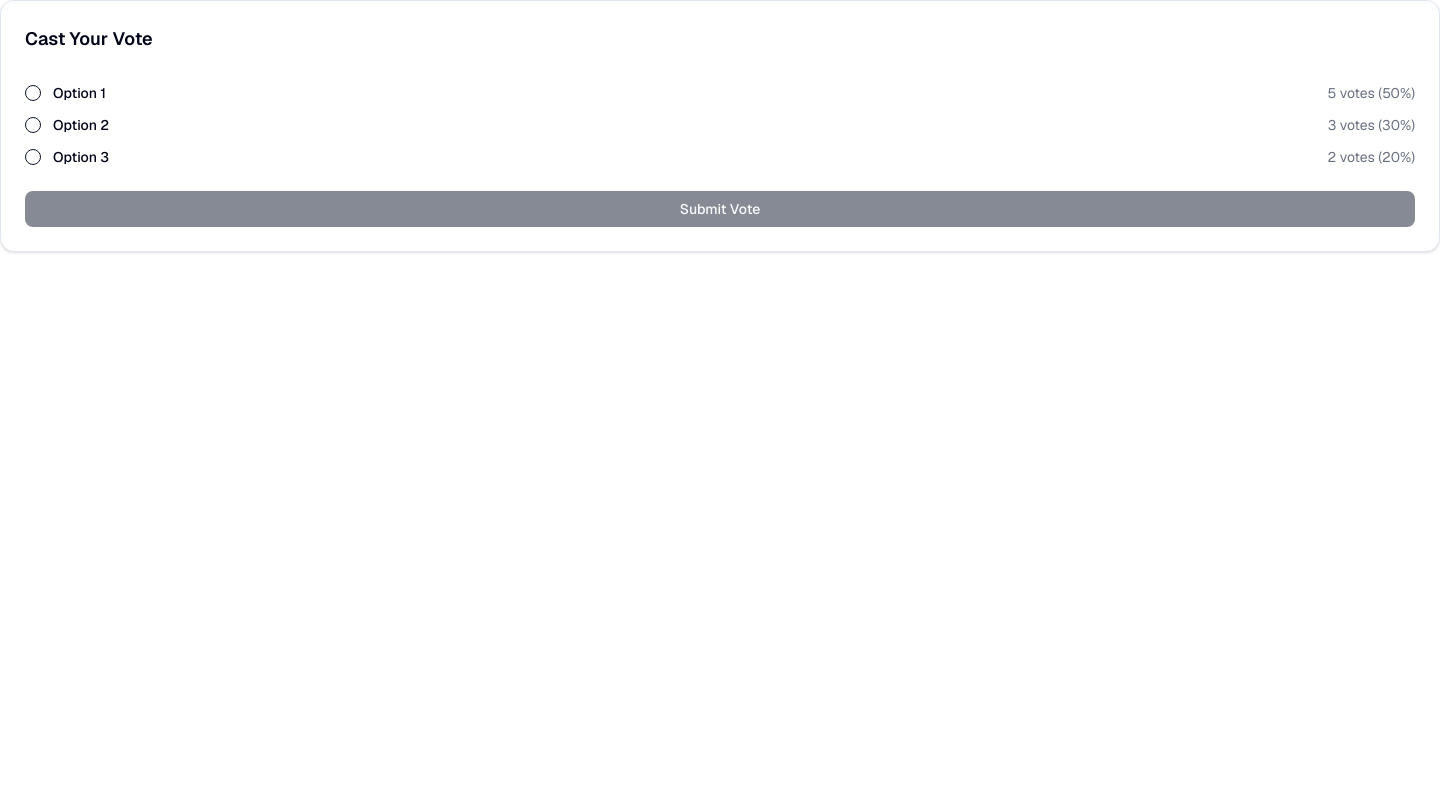
Test: VotingForm › shows total votes count in results
# Vote to see results
What coordinates should you click on to do the following:
click the radio button named "Option 1" next to "Option 1"
I would click on:
 (33, 93)
Its box is [25,85,41,101].
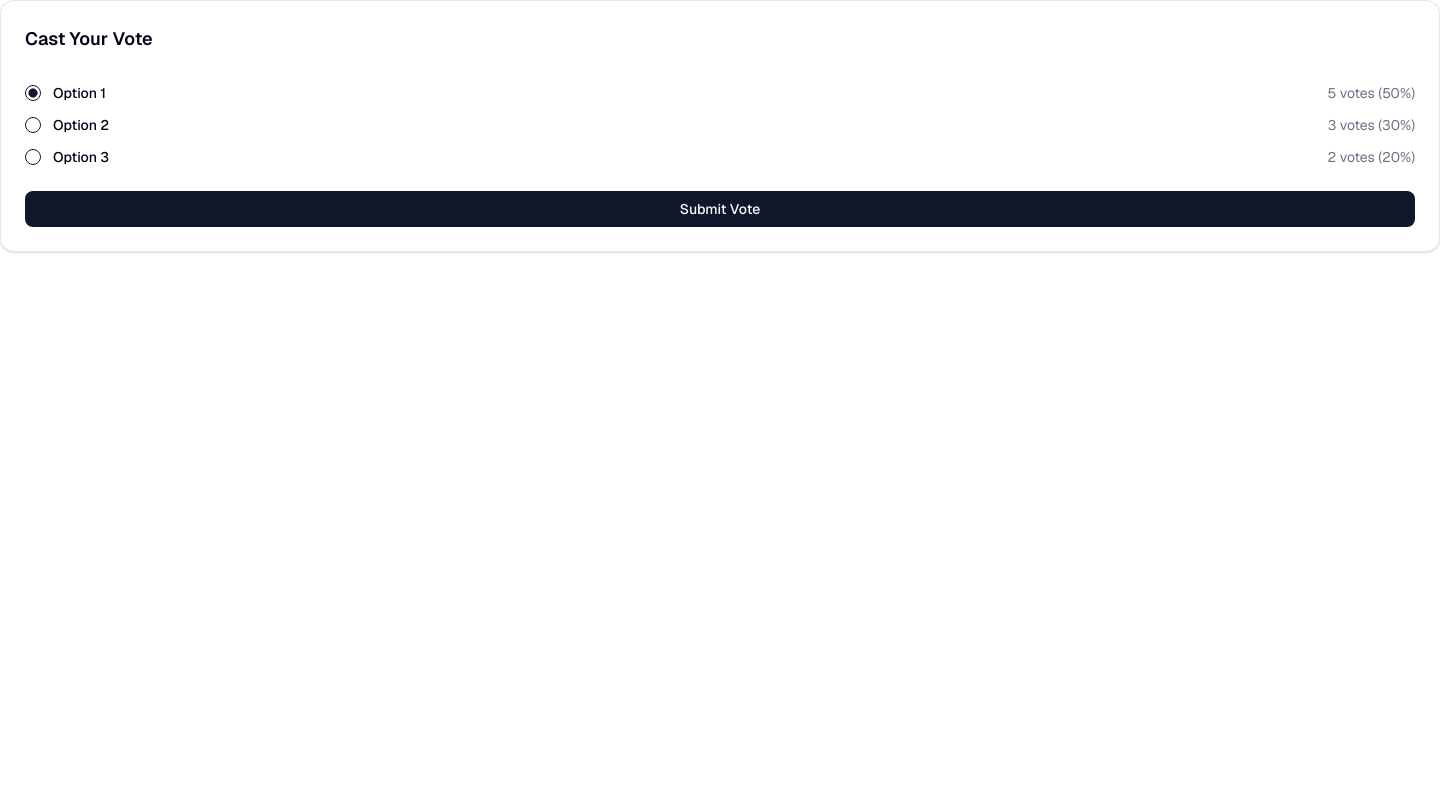
What coordinates should you click on to do the following:
click the button "Submit Vote"
I would click on:
 (720, 209)
Its box is [25,191,1415,227].
(page scrolled)
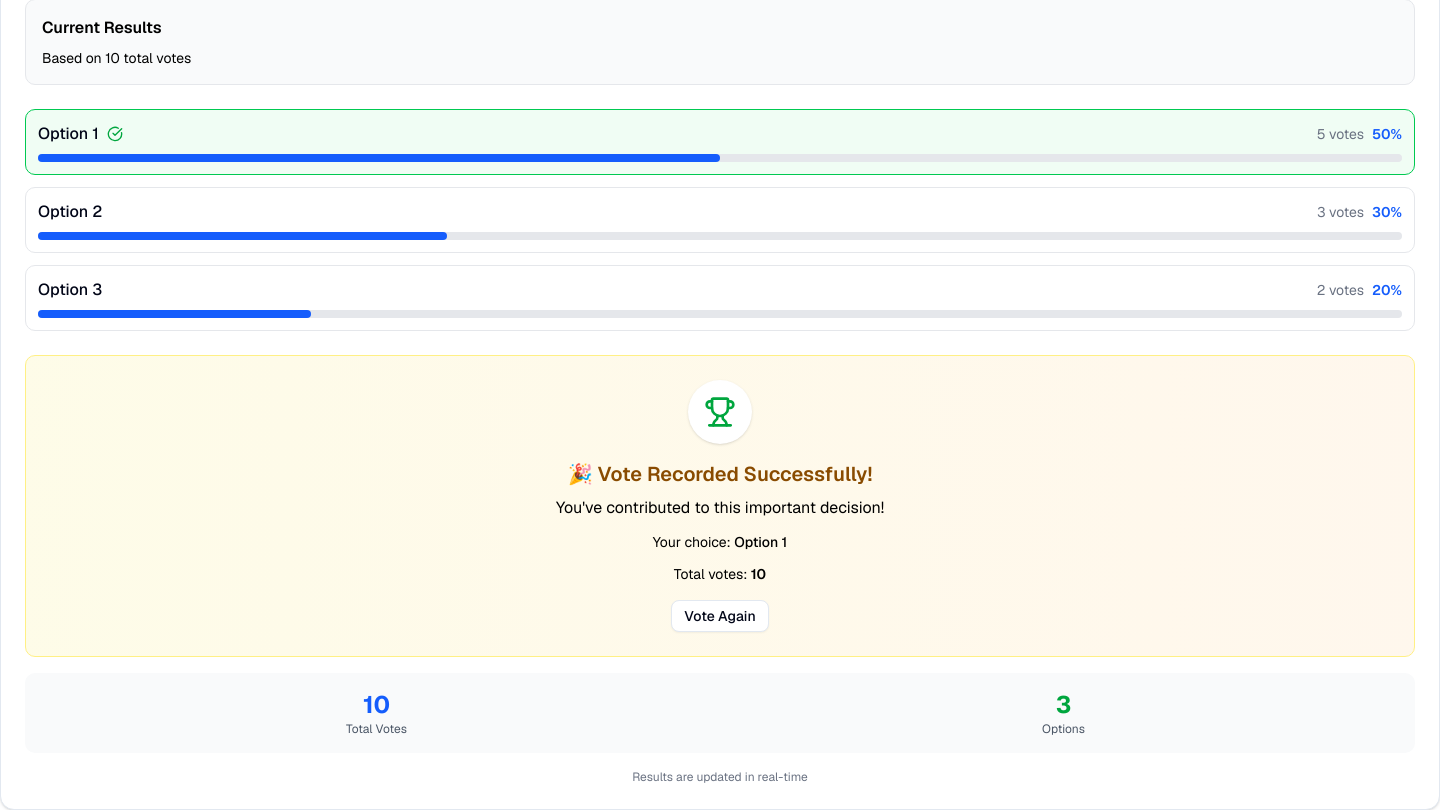
Now the text "10" is shown 2 times, box [751,565,766,583]; [363,689,390,720]
Now the text "Total Votes" is shown, box [346,721,407,737]
Now the text "3" is shown, box [1056,689,1071,720]
